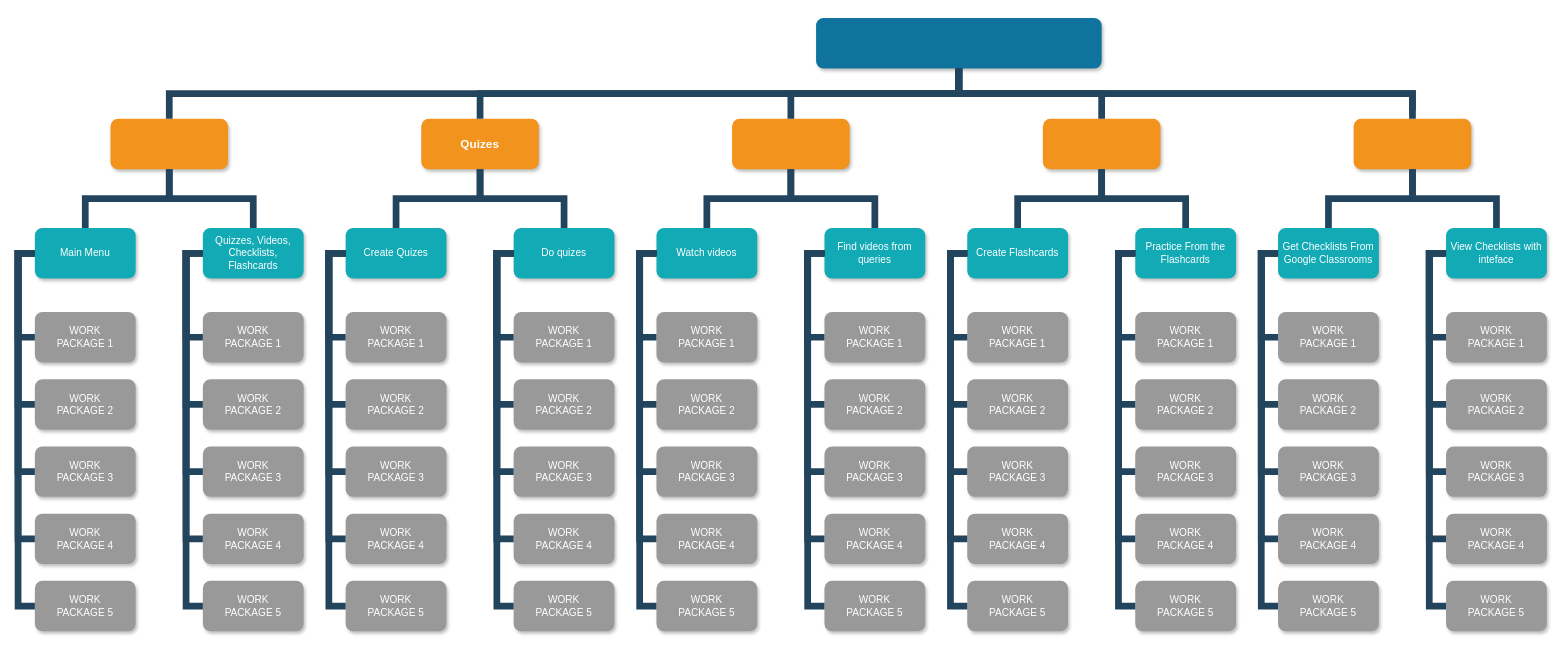
The diagram is 1566 pixels wide and 651 high, and some of its shapes have lost their labels. Here are the shapes that lost their labels. From the top down, the centre of each, then its label:
At pixel 959 44: "Revision App".
At pixel 170 145: "Interface".
At pixel 791 145: "Videos".
At pixel 1102 145: "Flashcards".
At pixel 1413 145: "Checklists".
